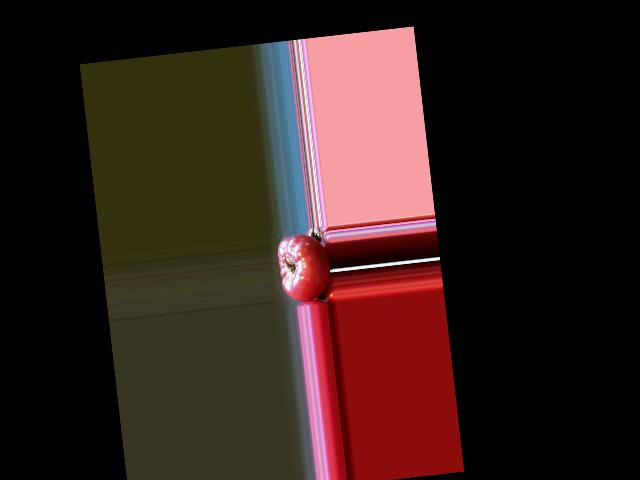tomato: (276, 231, 333, 305)
